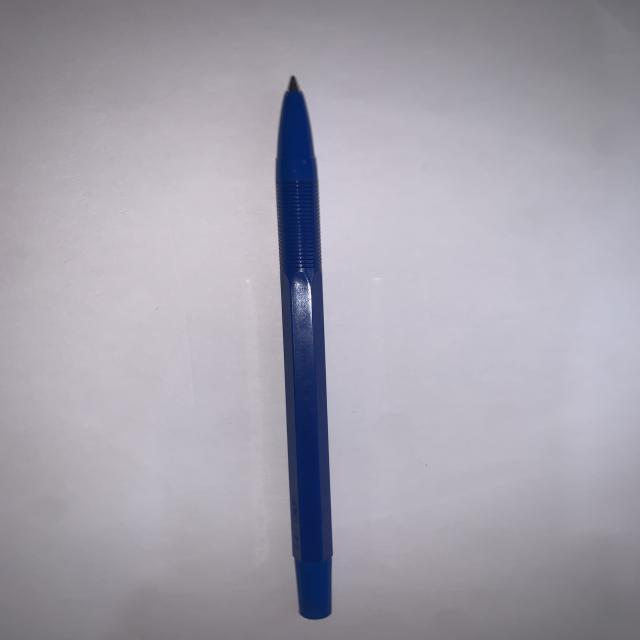Pulpen: (254, 68, 363, 630)
